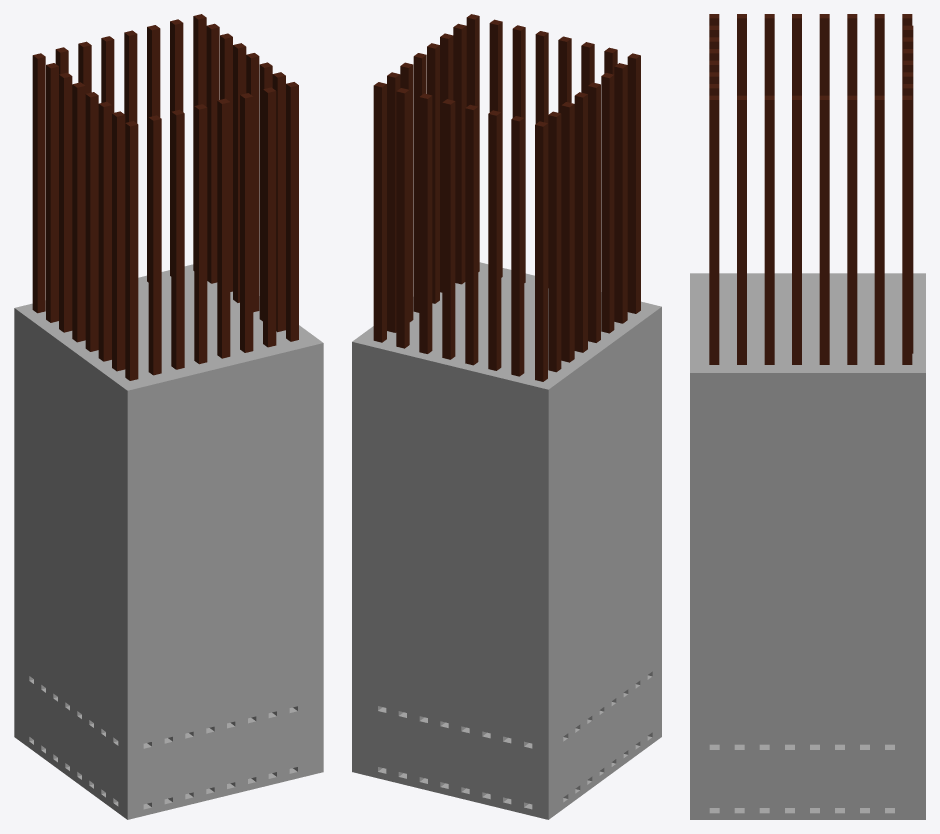
File: PCa_column_1200_2500A.glb
3 renders of one model, left to right at view 1: azimuth 30°, elevation 25°; view 2: azimuth 150°, elevation 25°; view 3: azimuth 270°, elevation 25°, orthographic. The views are drawn at different scales.
Visible parts, largest first — view 1: Cube.031; view 2: Cube.031; view 3: Cube.031.
Boxes of the visible parts, x1=… form: Cube.031: x1=14, y1=14, x2=323, y2=819; Cube.031: x1=352, y1=14, x2=661, y2=819; Cube.031: x1=690, y1=14, x2=925, y2=819.
Size of the model in its own units: 1.2 by 4.01 by 1.2.
